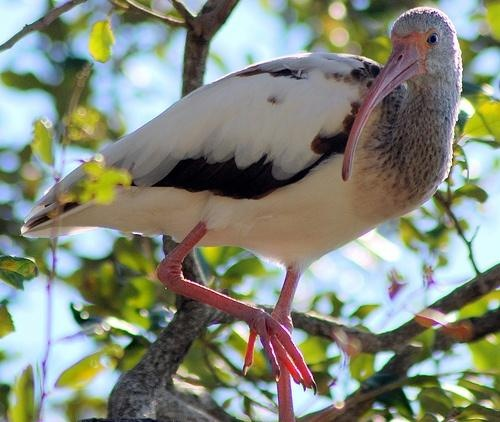bird: (17, 6, 465, 422)
